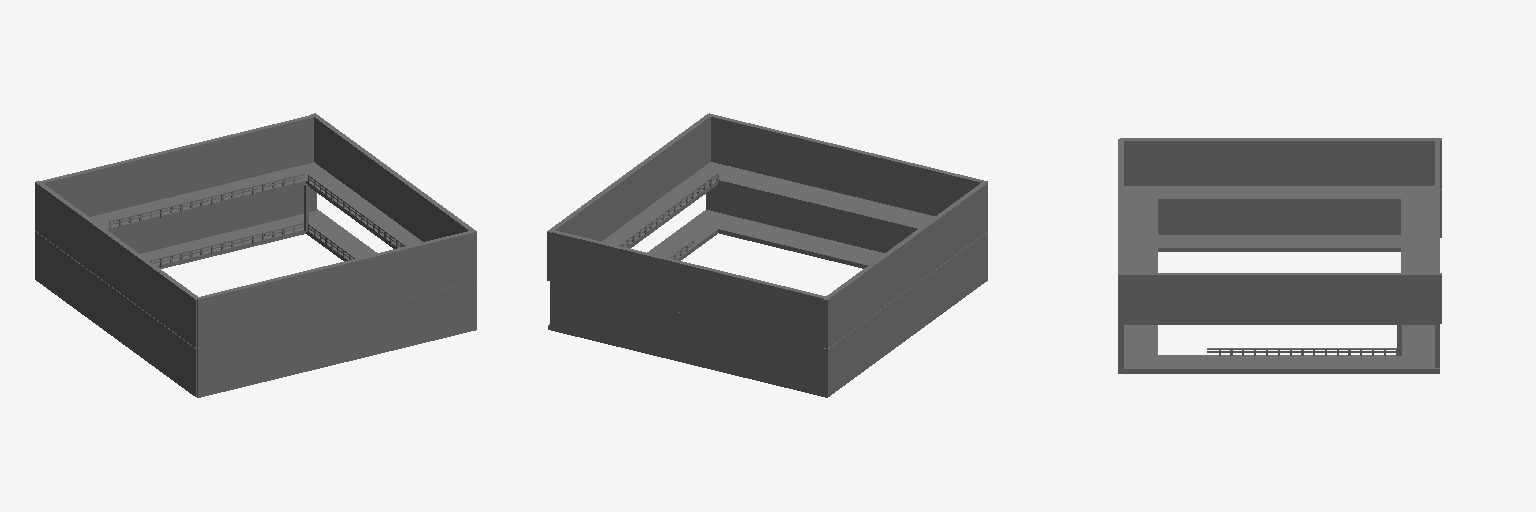
The model's file is Nivel_tutorial.obj.
3 views of the same model, side by side, from view 1: azimuth 30°, elevation 25°; view 2: azimuth 150°, elevation 25°; view 3: azimuth 270°, elevation 25° (orthographic).
Visible parts, largest first — view 1: pCube18, pCube2, pCube17, pCube15, pCube5, pCube16, pCube19, pCube3, pCube1; view 2: pCube17, pCube3, pCube18, pCube15, pCube5, pCube16, pCube19, pCube2, pCube1; view 3: pCube16, pCube15, pCube1, pCube19, pCube5, pCube18, pCube17.
Part boxes in pixels (bbox=[...]): pCube18: bbox=[196, 231, 476, 347]; pCube2: bbox=[197, 281, 476, 396]; pCube17: bbox=[35, 114, 315, 231]; pCube15: bbox=[36, 181, 197, 347]; pCube5: bbox=[37, 232, 196, 396]; pCube16: bbox=[311, 113, 475, 241]; pCube19: bbox=[90, 162, 473, 348]; pCube3: bbox=[35, 185, 316, 281]; pCube1: bbox=[141, 209, 475, 397]; pCube17: bbox=[552, 230, 830, 347]; pCube3: bbox=[550, 281, 830, 396]; pCube18: bbox=[708, 113, 987, 215]; pCube15: bbox=[823, 181, 987, 348]; pCube5: bbox=[823, 232, 987, 397]; pCube16: bbox=[547, 114, 711, 281]; pCube19: bbox=[552, 162, 934, 346]; pCube2: bbox=[706, 184, 912, 252]; pCube1: bbox=[548, 210, 884, 397]; pCube16: bbox=[1120, 273, 1441, 323]; pCube15: bbox=[1120, 138, 1441, 188]; pCube1: bbox=[1118, 235, 1439, 373]; pCube19: bbox=[1118, 186, 1439, 324]; pCube5: bbox=[1158, 189, 1441, 237]; pCube18: bbox=[1118, 139, 1123, 319]; pCube17: bbox=[1435, 138, 1439, 273].
Bounding box in the file's own units: 52.1 × 17.45 × 52.